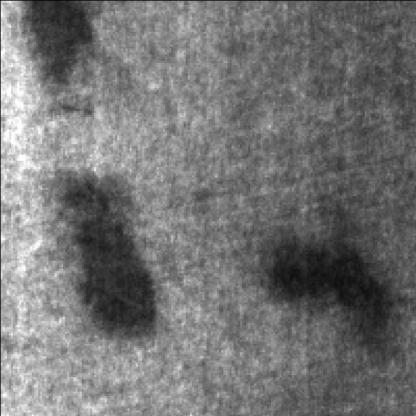patches: (63, 176, 166, 352), (268, 250, 396, 350), (25, 4, 98, 100)
